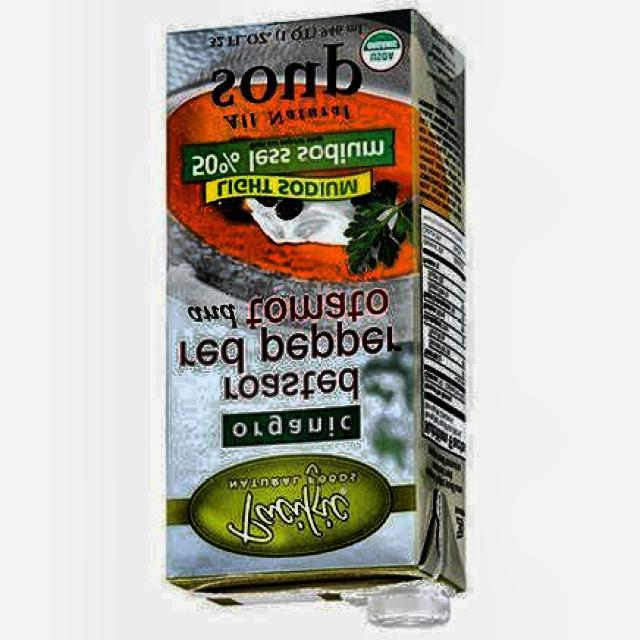cardboard: (162, 9, 468, 612)
